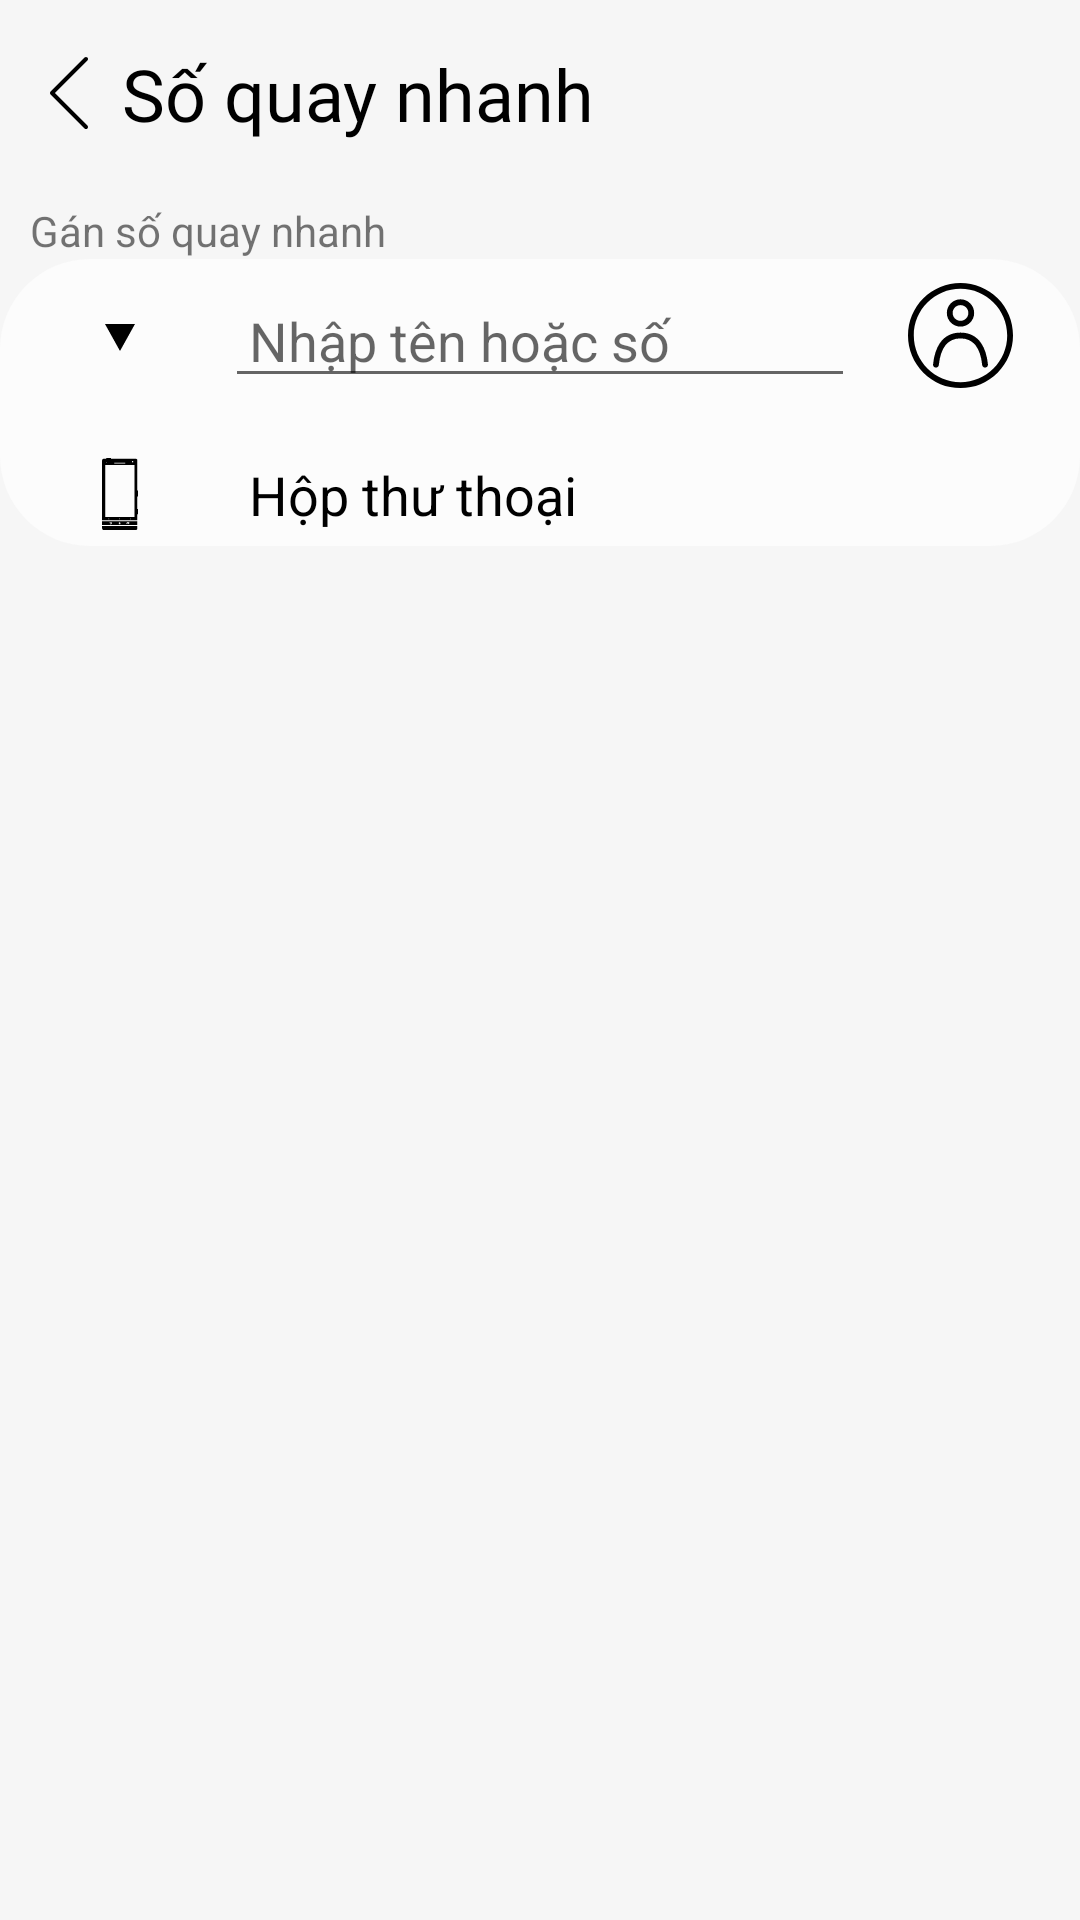

Screen size 1080 × 1920. Icon name, then its center in pixels as point (x, y):
backmsg: point (69, 93)
down: point (120, 337)
voicephone: point (120, 494)
